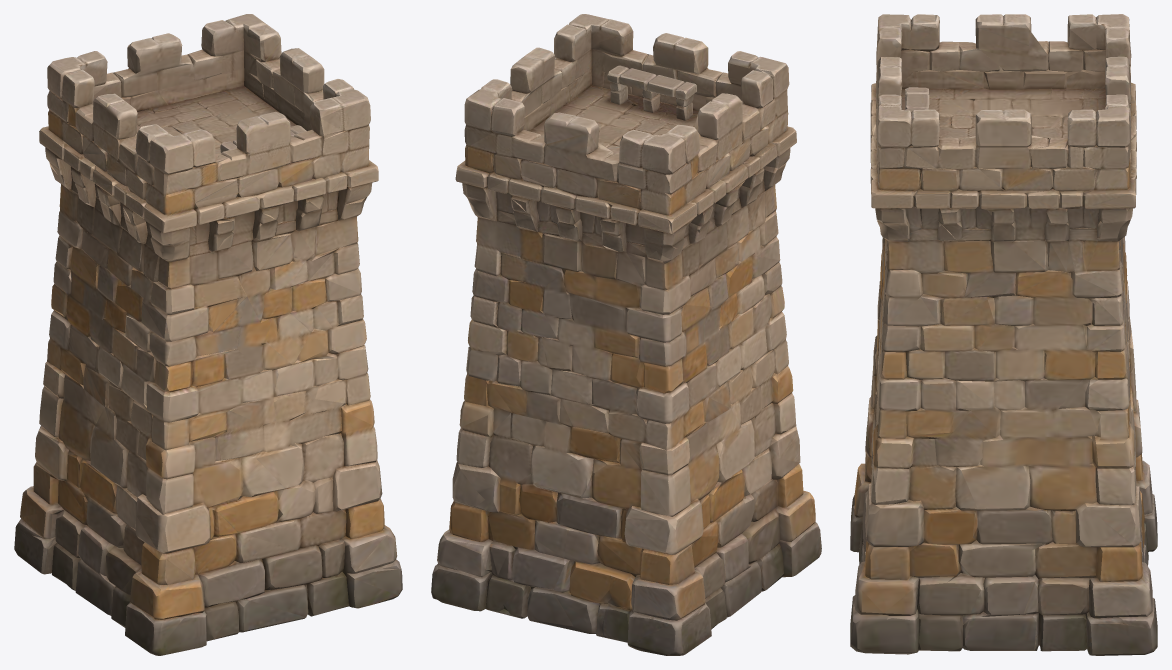
Rendered from wallpost.glb.
3 renders of one model, left to right at view 1: azimuth 30°, elevation 25°; view 2: azimuth 150°, elevation 25°; view 3: azimuth 270°, elevation 25°, orthographic. The views are drawn at different scales.
Bounding box in the file's own units: 1.01 × 1.9 × 1.01.
Materials: 1 (1 with a texture image).
